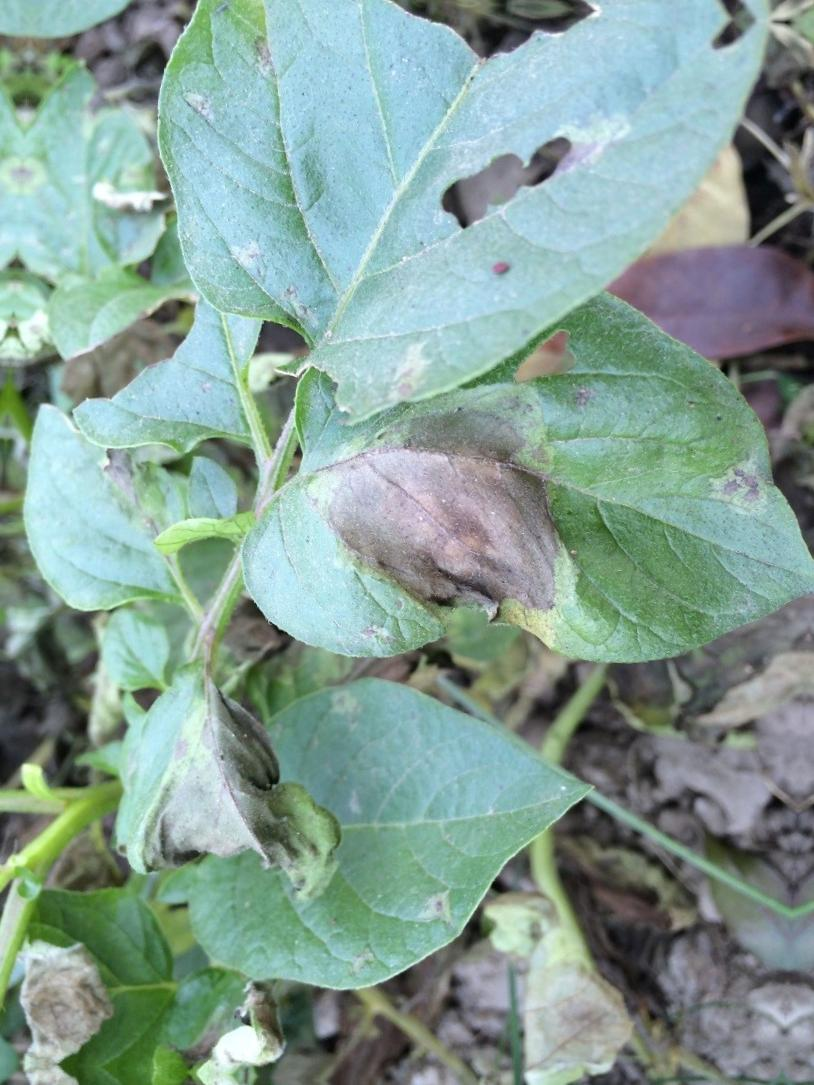Tomato leaf late blight: (211, 423, 606, 686), (97, 650, 344, 897)
